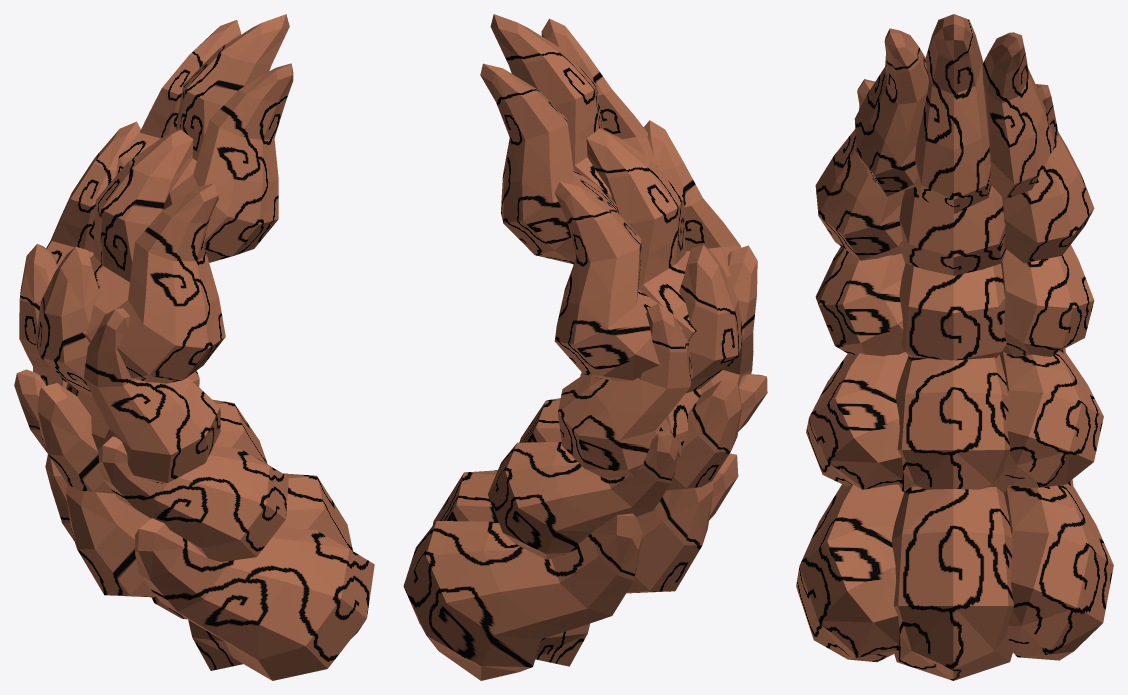
File: colita.obj
3 renders of one model, left to right at view 1: azimuth 30°, elevation 25°; view 2: azimuth 150°, elevation 25°; view 3: azimuth 270°, elevation 25°, orthographic. The views are drawn at different scales.
Visible parts, largest first — view 1: Shukaku:Shukaku2; view 2: Shukaku:Shukaku2; view 3: Shukaku:Shukaku2.
Boxes of the visible parts, left/top/right/bottom form: Shukaku:Shukaku2: left=14, top=14, right=374, bottom=680; Shukaku:Shukaku2: left=403, top=14, right=767, bottom=680; Shukaku:Shukaku2: left=796, top=14, right=1113, bottom=680.
Size of the model in its own units: 6.33 by 12.47 by 5.36.
